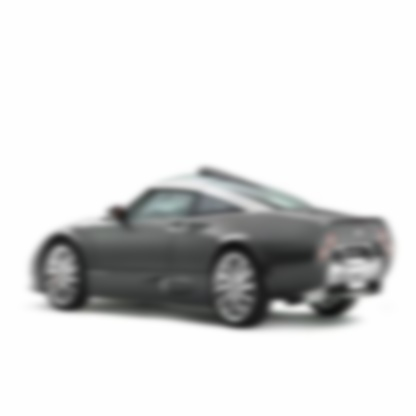Vehicle: (27, 159, 398, 334)
